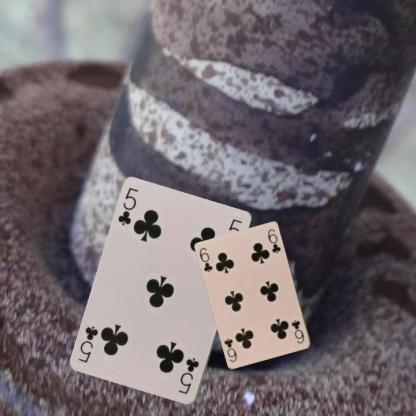5c: (115, 185, 140, 227), (176, 355, 200, 396)
6c: (197, 245, 214, 274), (289, 317, 306, 345)
